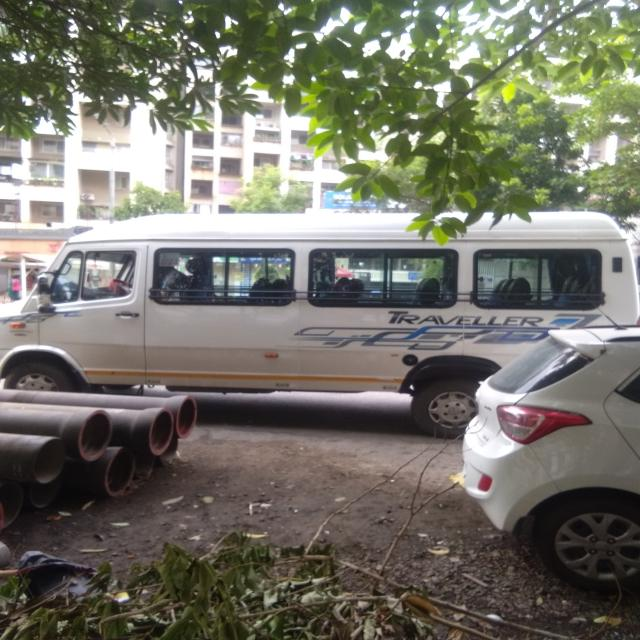Bus: (0, 211, 625, 329)
